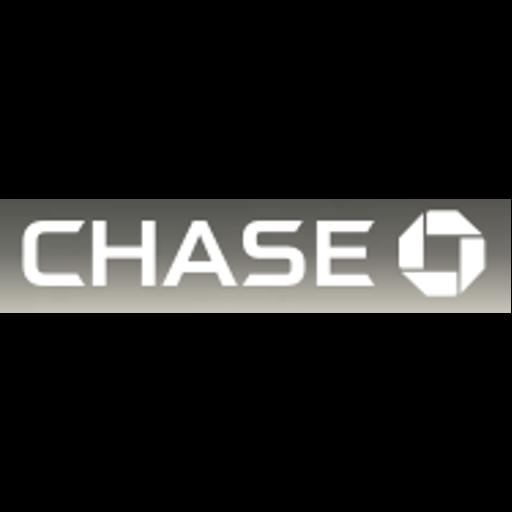Chase Personal Banking: (0, 199, 511, 313)
